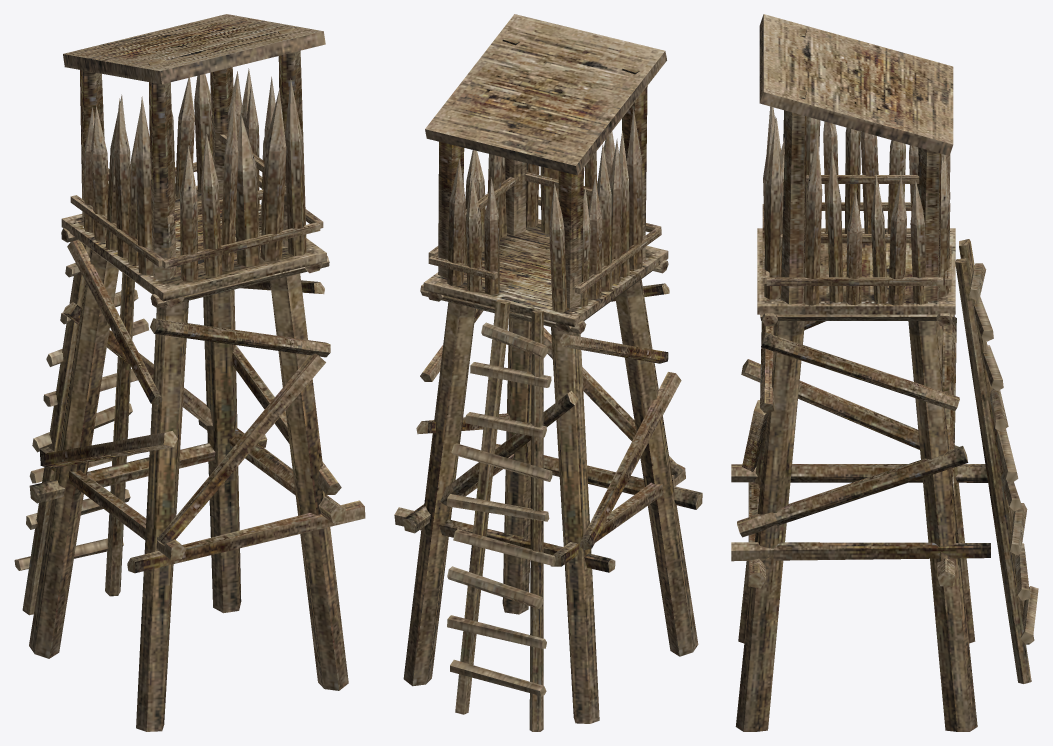
File: desert_woodfence01.glb
3 views of the same model, side by side, from view 1: azimuth 30°, elevation 25°; view 2: azimuth 150°, elevation 25°; view 3: azimuth 270°, elevation 25° (orthographic). The views are drawn at different scales.
Visible parts, largest first — view 1: desert_wood01; view 2: desert_wood01; view 3: desert_wood01.
Part boxes in pixels (x1,y1,x2,y2): desert_wood01: (14, 14, 365, 731); desert_wood01: (394, 14, 702, 731); desert_wood01: (731, 14, 1038, 731).
Bounding box in the file's own units: 3.77 × 10.1 × 4.43.
1 material, 1 textured.
